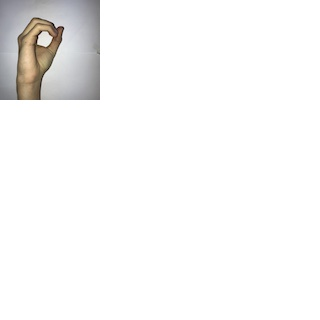rock: (9, 13, 66, 86)
